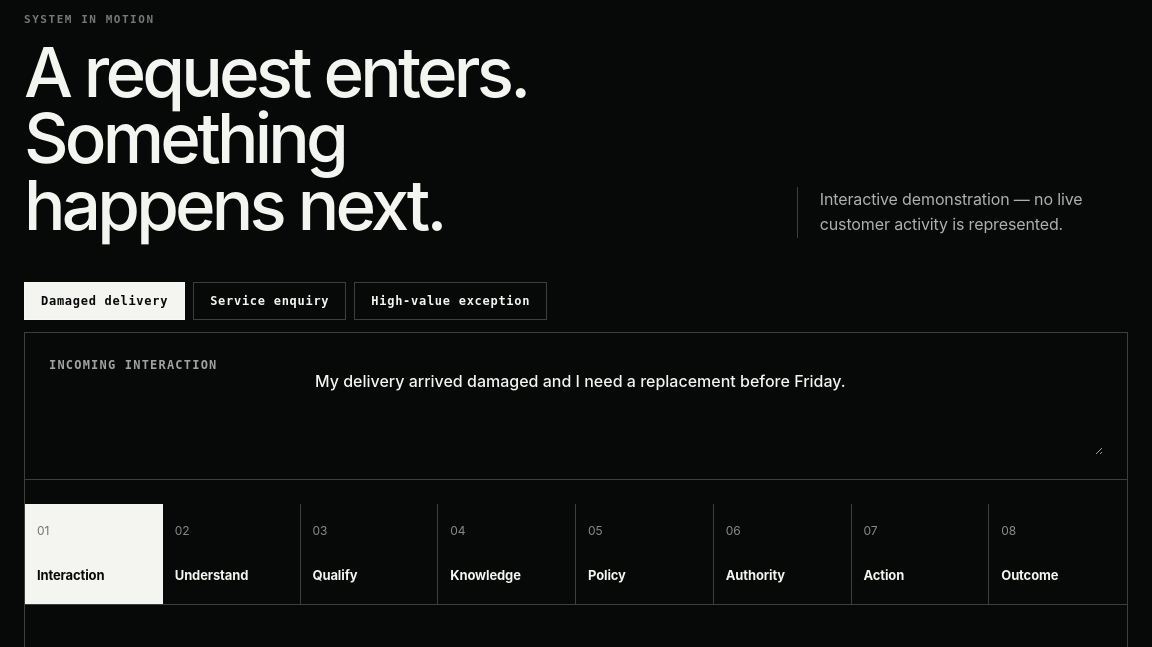
Test case: Phase 1 corporate reconciliation › makes the authority boundary visible in the Business demonstration
This screenshot has width=1152, height=647.
(page scrolled)
Click the button "High-value exception" at (451, 301), box [354, 282, 547, 320]
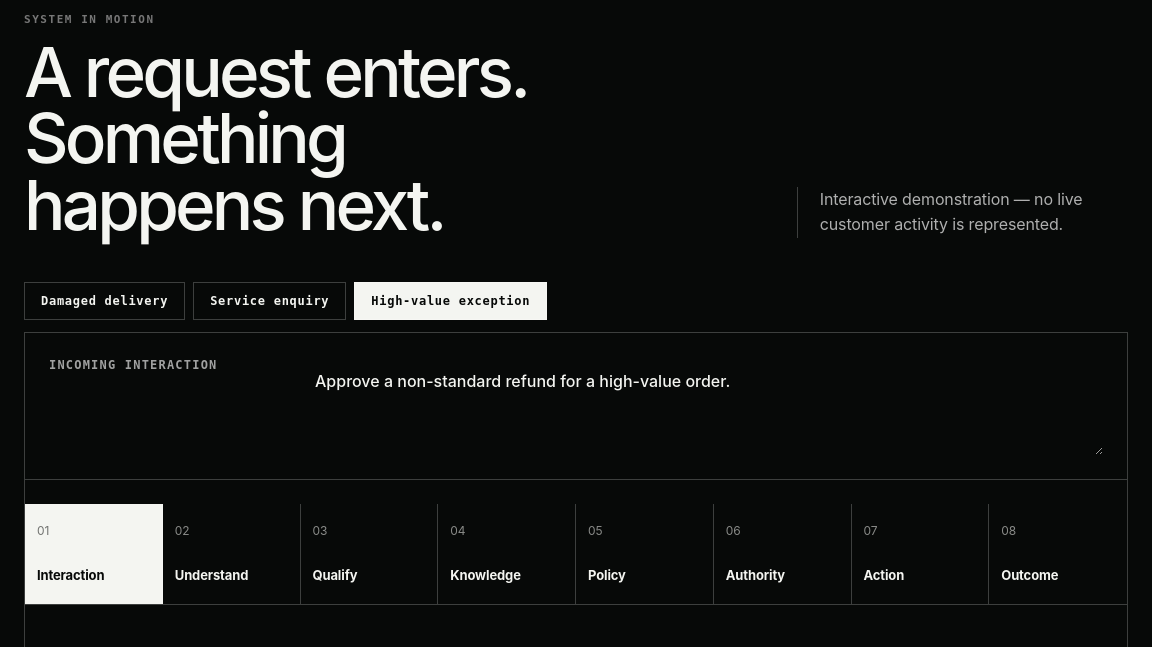
Click the tab "06 Authority" at (783, 554), box [714, 504, 852, 604]
(page scrolled)
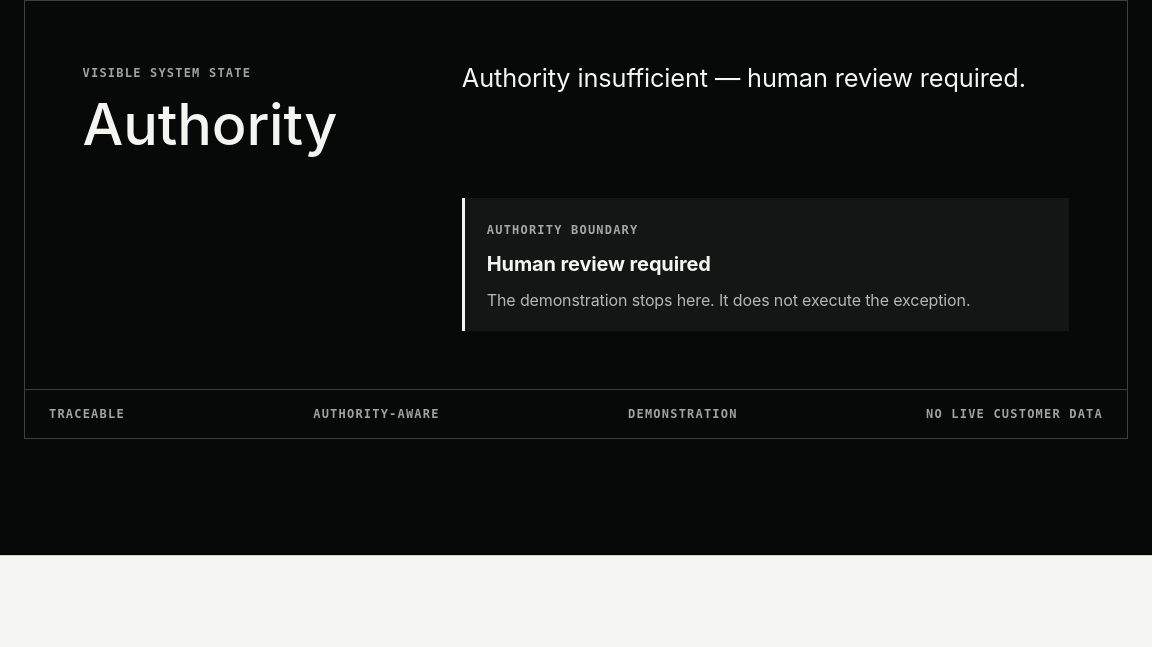
Expected: the text "Human review required" is shown, [487, 252, 711, 276]
Expected: the text "does not execute the exception" is shown, [487, 290, 970, 310]
